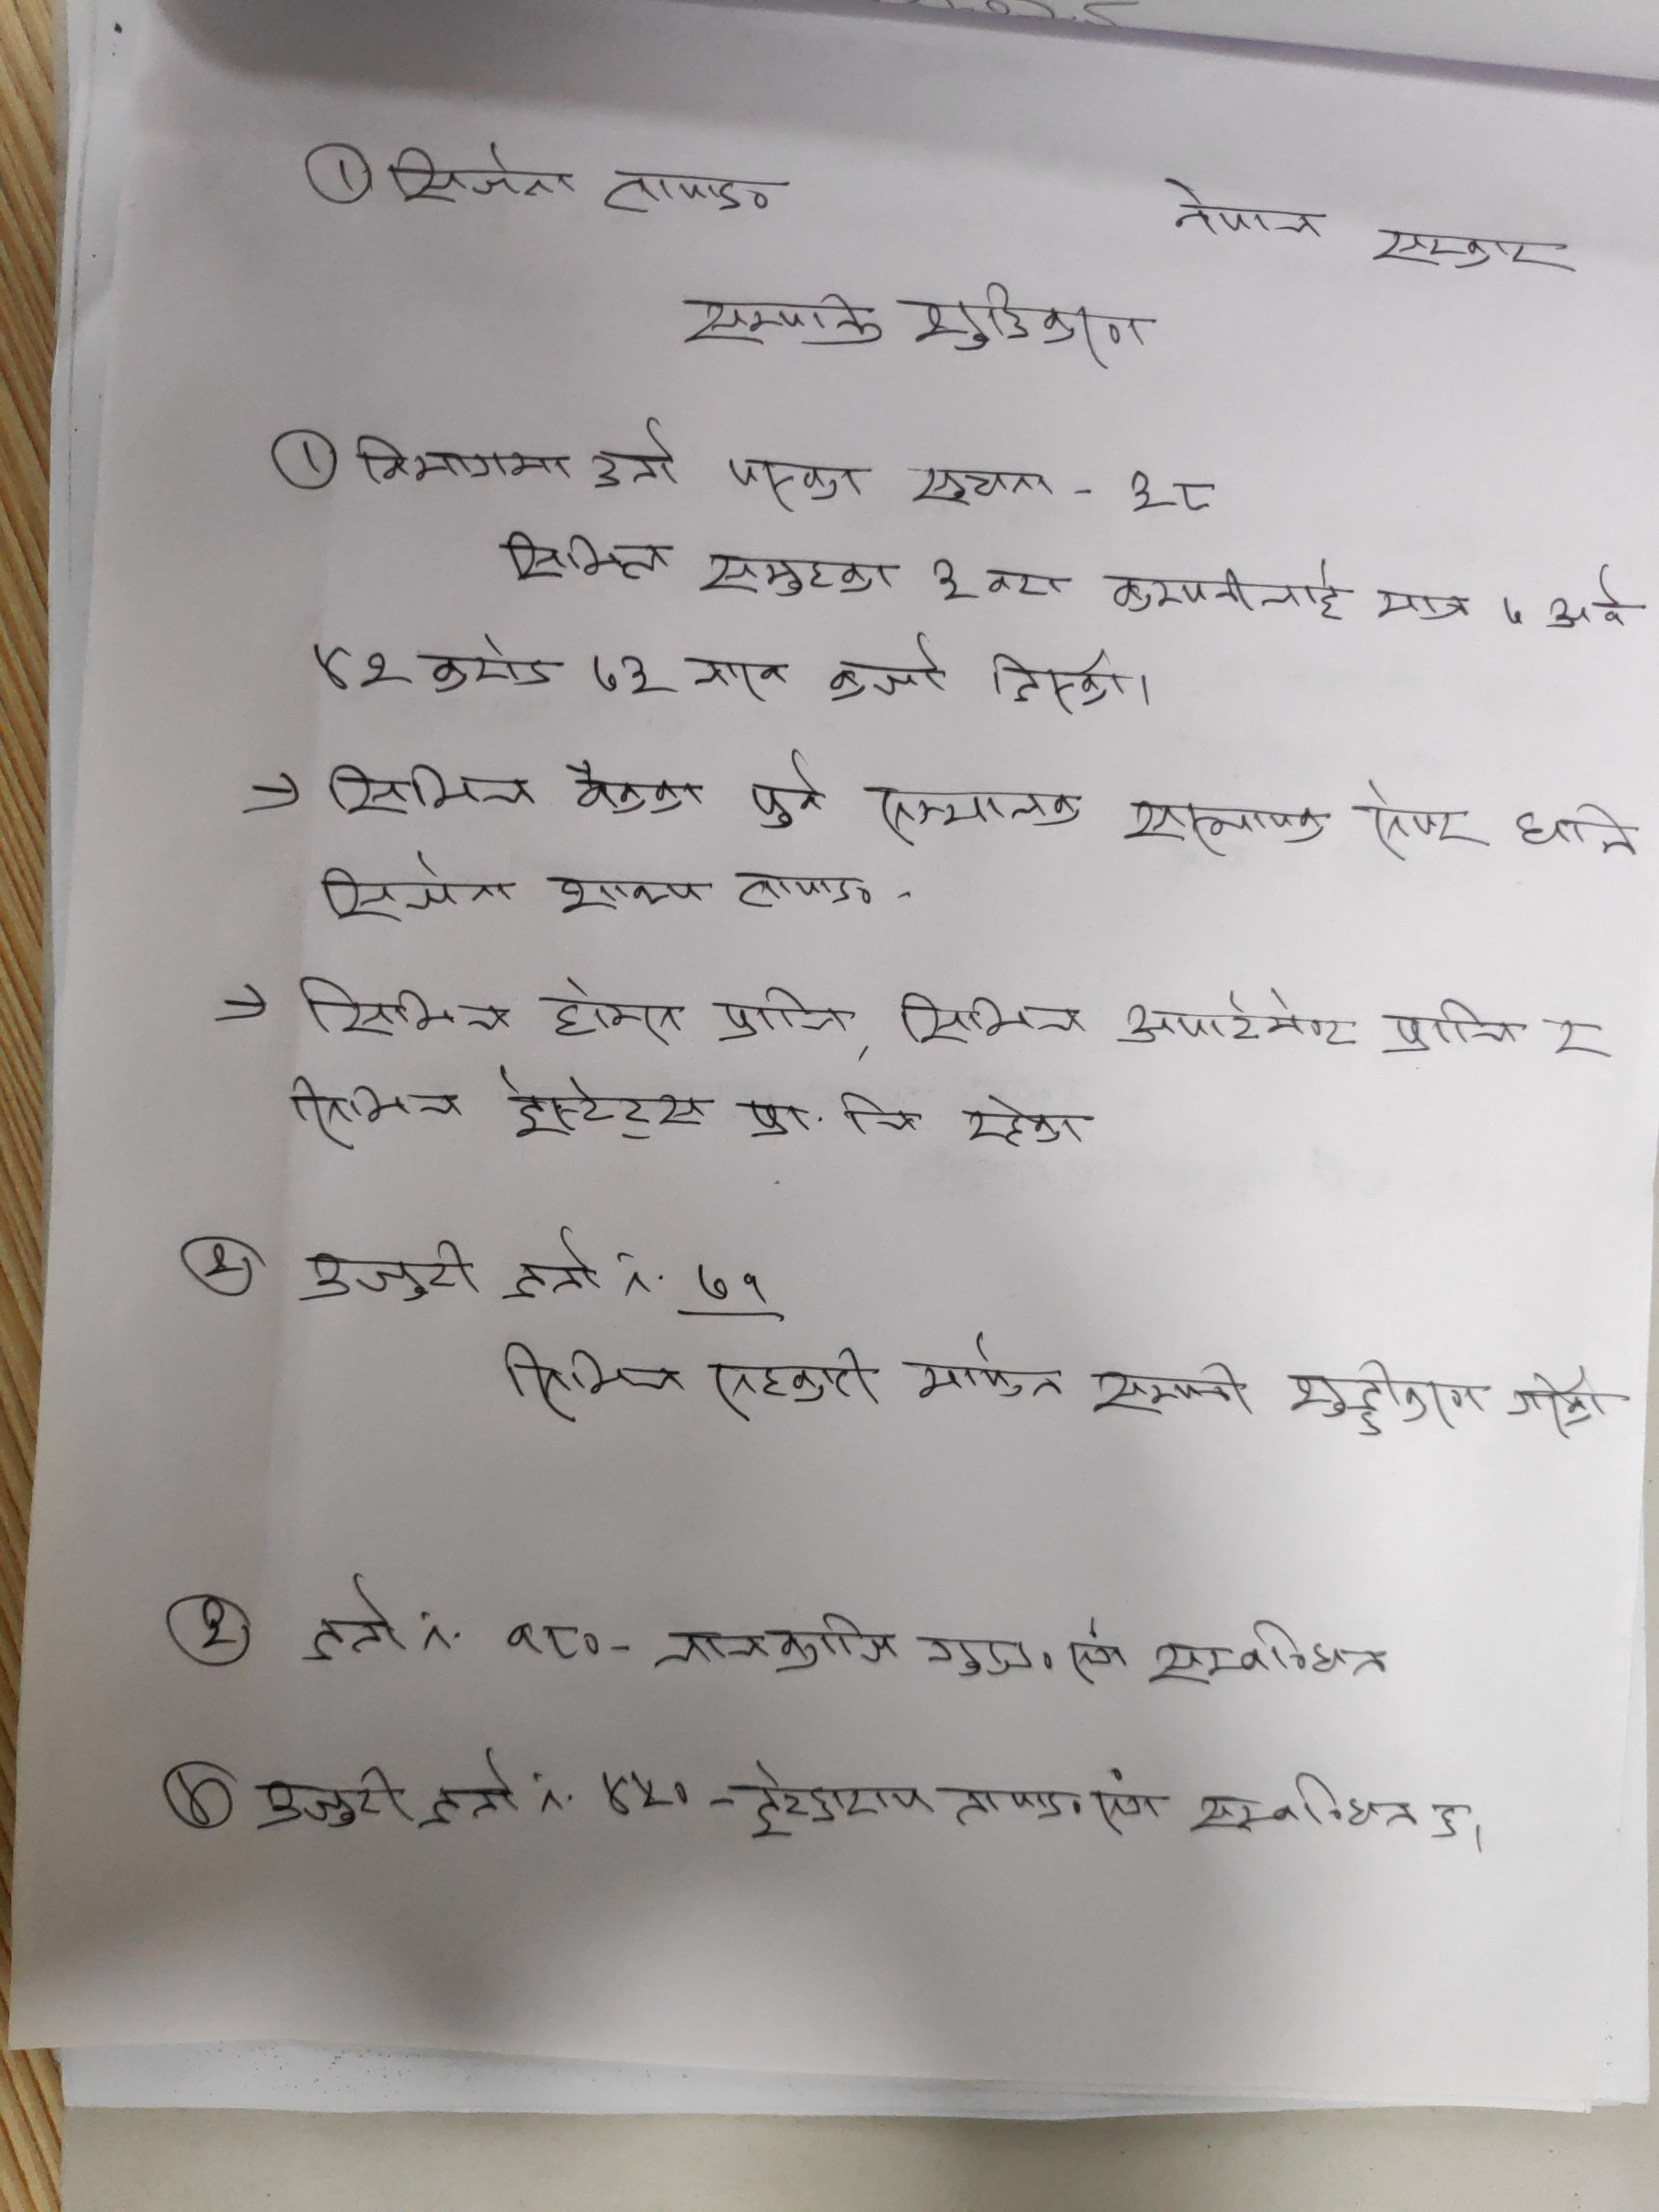text: (906, 277, 1166, 369), (1147, 1613, 1392, 1696), (490, 1059, 711, 1146), (650, 1604, 903, 1679), (732, 1756, 936, 1848), (488, 1329, 687, 1421), (315, 846, 523, 932), (1279, 1357, 1486, 1440), (279, 1064, 469, 1153), (1114, 989, 1366, 1054), (861, 782, 1086, 853), (1185, 1770, 1420, 1838), (289, 972, 511, 1042), (1101, 561, 1354, 622), (678, 286, 890, 357), (701, 1339, 882, 1421), (1115, 791, 1328, 860), (345, 430, 579, 493), (322, 759, 542, 826), (906, 1327, 1066, 1418), (383, 136, 579, 209), (500, 519, 674, 597), (1368, 223, 1595, 280), (890, 988, 1089, 1052), (303, 1237, 481, 1308), (537, 970, 688, 1054), (692, 540, 903, 599), (1164, 172, 1331, 246), (1086, 1353, 1258, 1421), (256, 1763, 404, 1841), (1358, 773, 1478, 862), (979, 651, 1131, 721), (293, 1575, 408, 1665), (823, 625, 950, 707), (1382, 991, 1527, 1062), (598, 171, 788, 225), (416, 1745, 526, 1838), (547, 866, 713, 927), (422, 634, 559, 704), (711, 988, 852, 1054), (561, 756, 709, 819), (913, 1623, 1060, 1686), (957, 1090, 1098, 1155), (497, 1230, 612, 1306), (941, 1778, 1089, 1836), (586, 418, 687, 500), (723, 449, 866, 507), (1514, 799, 1643, 862), (906, 463, 1060, 514), (746, 747, 826, 841), (587, 1763, 695, 1827), (732, 867, 878, 914), (1506, 1366, 1607, 1433), (1542, 563, 1631, 639), (1370, 578, 1480, 636), (687, 646, 793, 702), (577, 641, 671, 702), (1126, 465, 1223, 523), (1087, 1768, 1161, 1844), (312, 634, 401, 697), (493, 1613, 603, 1663), (835, 1080, 924, 1139), (685, 1259, 784, 1308), (730, 1092, 819, 1143), (976, 561, 1068, 601), (929, 549, 981, 610), (192, 1597, 237, 1662), (173, 1771, 221, 1829), (197, 1245, 242, 1291), (1431, 1799, 1467, 1844)
